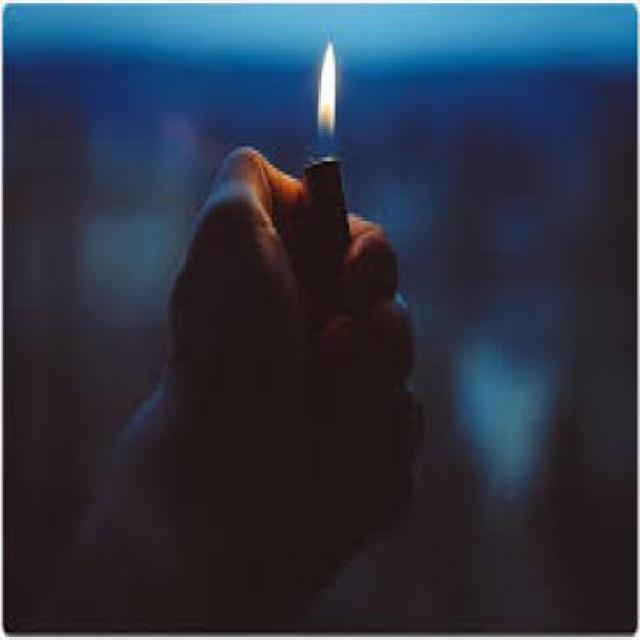Fire: (301, 34, 347, 162)
